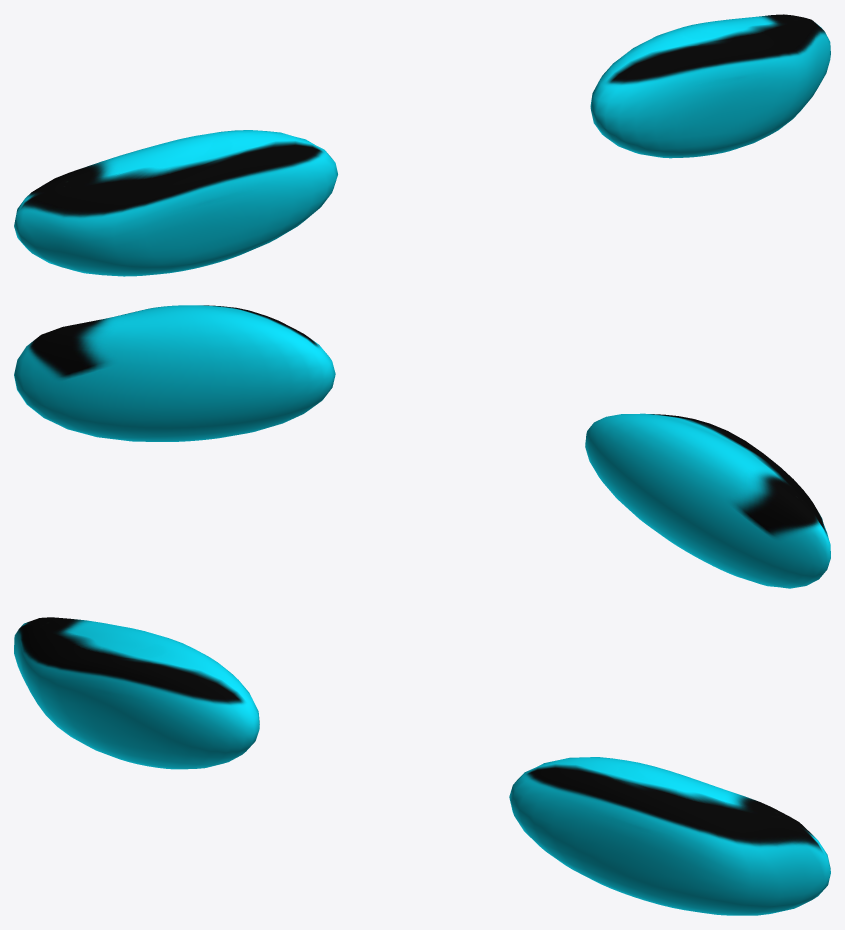
Rendered from Zombie-Blue.glb.
3 views of the same model, one above another, from view 1: azimuth 30°, elevation 25°; view 2: azimuth 150°, elevation 25°; view 3: azimuth 330°, elevation 25° (orthographic).
Parts seen in each view (by area): view 1: Sphere.002; view 2: Sphere.002; view 3: Sphere.002.
Part boxes in pixels (x1,y1,x2,y2): Sphere.002: (14, 14, 830, 276); Sphere.002: (14, 305, 830, 588); Sphere.002: (14, 617, 830, 915).
Size of the model in its own units: 0.3777 by 0.0623 by 0.0485.
Materials: 1 (1 with a texture image).
